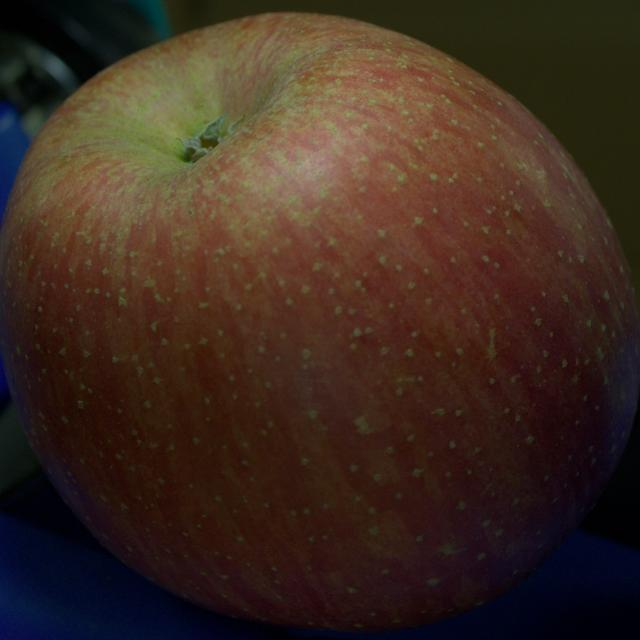apple: (0, 14, 639, 632)
